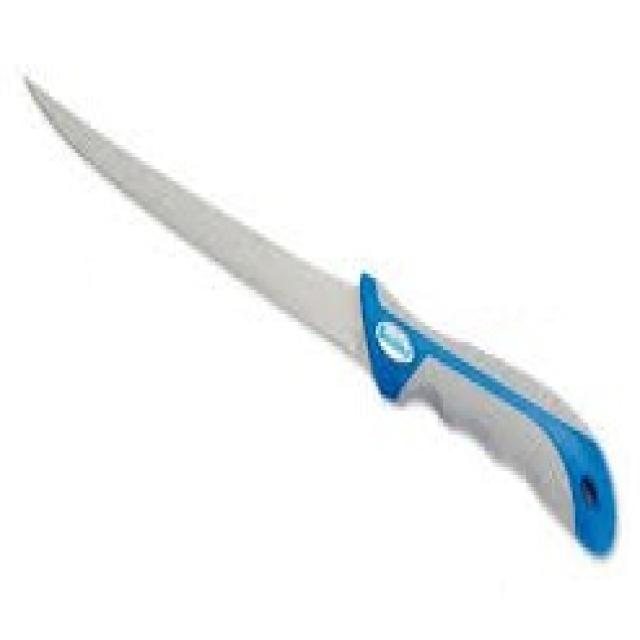knife: (23, 68, 628, 583)
